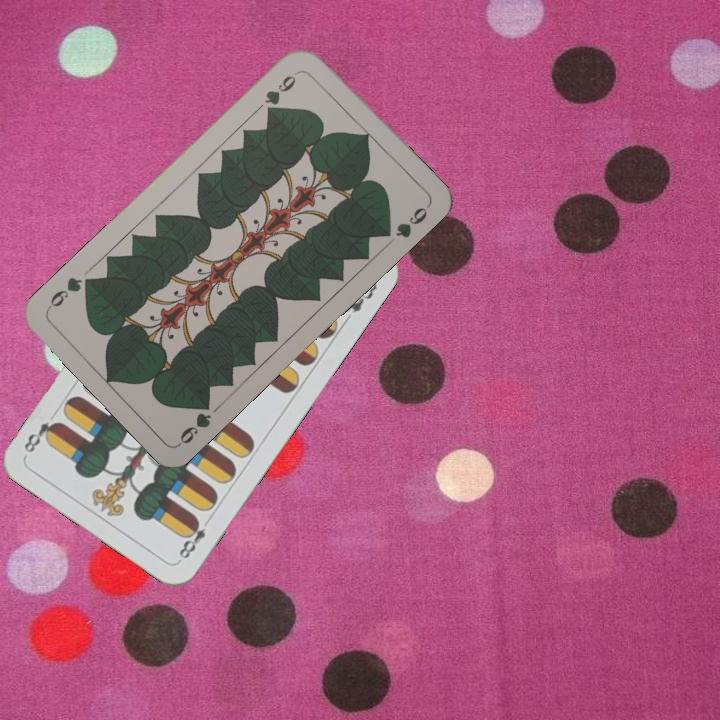E8: (175, 512, 215, 562)
G9: (260, 67, 303, 117), (175, 395, 214, 448)
